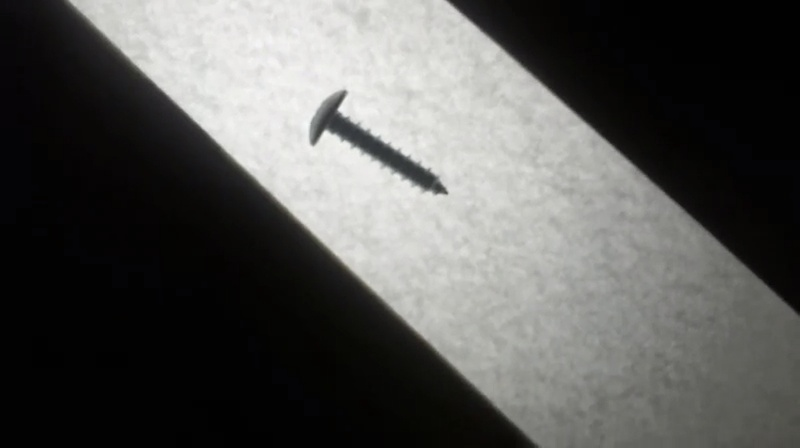S003: (302, 87, 453, 196)
